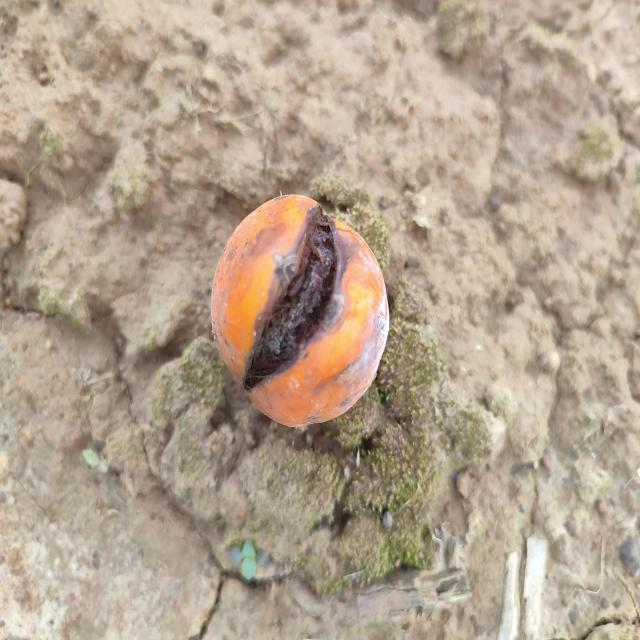damaged: (210, 196, 389, 429)
